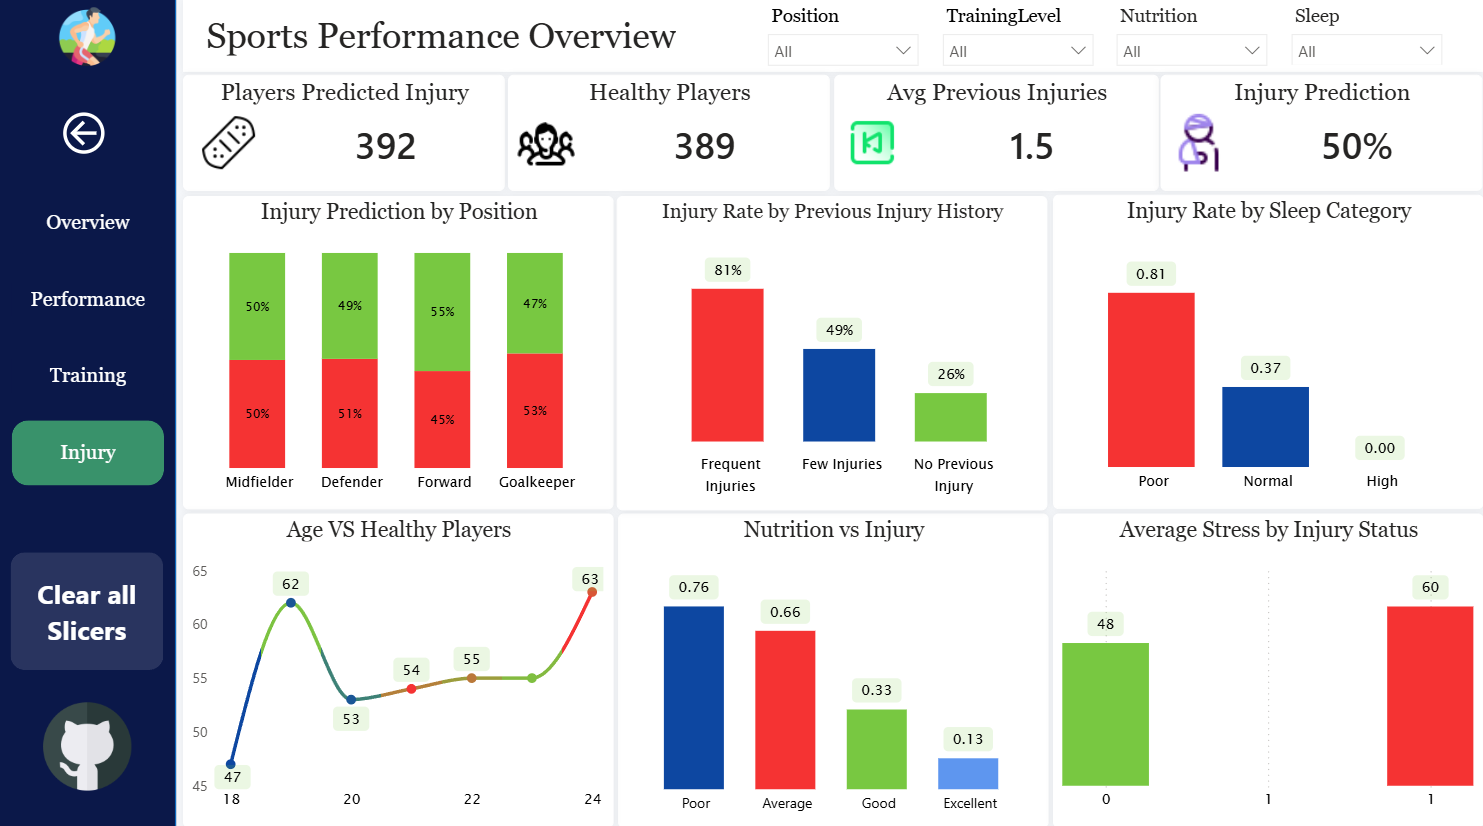

This screenshot's page, from the dashboard's own definition file:
{"tool":"powerbi","page":{"name":"Injury","canvas":[1280,720],"ordinal":3},"visuals":[{"type":"shape","box":[0,0,153.2,720.2],"z":0},{"type":"pageNavigator","box":[12.3,166.9,131.5,257],"z":1000},{"type":"shape","box":[159.3,3.6,1118.4,62],"z":2000},{"type":"slicer","title":"Training Level Distribution","fields":{"Values":["Dim_Position.Position"]},"box":[650,0,155,63.9],"z":3000},{"type":"slicer","title":"Training Level Distribution","fields":{"Values":["Dim_TrainingLevel.TrainingLevel"]},"box":[800,0,155,62.7],"z":4000},{"type":"slicer","title":"Training Level Distribution","fields":{"Values":["Dim_Nutrition.Nutrition_Category"]},"box":[950,0,155,63.9],"z":5000},{"type":"slicer","title":"Training Level Distribution","fields":{"Values":["Dim_SleepCategory.Sleep_Category"]},"box":[1100,0,155,60.3],"z":6000},{"type":"cardVisual","title":"Players Predicted Injury","fields":{"Data":["All Measures.Players Predicted Injury"]},"box":[159.3,68,277,100],"z":7000},{"type":"cardVisual","title":"Healthy Players","fields":{"Data":["All Measures.Healthy Players"]},"box":[439,67.4,277,100],"z":8000},{"type":"cardVisual","title":"Avg Previous Injuries","fields":{"Data":["All Measures.Avg Previous Injuries"]},"box":[719,67.4,279,100],"z":9000},{"type":"cardVisual","title":"Injury Prediction","fields":{"Data":["All Measures.Injury Prediction"]},"box":[1000,67.4,277,100],"z":10000},{"type":"hundredPercentStackedColumnChart","title":"Injury Prediction by Position","fields":{"Category":["Dim_Position.Position"],"Series":["Fact_PlayerPerformance.Injury_Next_Season"],"Y":["All Measures.Players"]},"box":[159.1,171.8,370.3,269.8],"z":11000},{"type":"columnChart","title":"Injury Rate by Sleep Category","fields":{"Category":["Dim_SleepCategory.Sleep_Category"],"Y":["All Measures.Injury Rate"]},"box":[907.2,171.3,370,270],"z":12000},{"type":"clusteredColumnChart","title":"Nutrition vs Injury","fields":{"Category":["Dim_Nutrition.Nutrition_Category"],"Y":["All Measures.Injury Rate"]},"box":[533,445,370,270],"z":13000},{"type":"lineChart","title":"Age VS Healthy Players","fields":{"Category":["Dim_Player.Age"],"Y":["All Measures.Healthy Players"]},"box":[159,445,370,270],"z":14000},{"type":"image","box":[14,9.3,125.6,50],"z":15000},{"type":"columnChart","title":"Injury Rate by Previous Injury History","fields":{"Category":["Dim_InjuryHistory.Injury_History"],"Y":["All Measures.Injury Rate"]},"box":[532,171.8,370,270],"z":16000},{"type":"columnChart","title":"Average Stress by Injury Status","fields":{"Category":["Fact_PlayerPerformance.Injury_Next_Season"],"Y":["Sum(Fact_PlayerPerformance.Stress_Level_Score)"]},"box":[907.4,445.4,370,270],"z":17000},{"type":"actionButton","box":[50.3,94.5,57.7,46.6],"z":18000},{"type":"actionButton","box":[0,489.6,153.4,50.3],"z":19000},{"type":"image","box":[35.6,592.6,85.9,93.3],"z":20000}]}

Visuals, with their boxes on the page's 1280x720 design canvas (x1, y1, x2, y2). These are canvas units, not pixel positions in the 1483x826 screenshot, which may show the page scaled, cropped or inside an application window:
shape: crop(0, 0, 153, 720)
pageNavigator: crop(12, 167, 144, 424)
shape: crop(159, 4, 1278, 66)
"Training Level Distribution" slicer: crop(650, 0, 805, 64)
"Training Level Distribution" slicer: crop(800, 0, 955, 63)
"Training Level Distribution" slicer: crop(950, 0, 1105, 64)
"Training Level Distribution" slicer: crop(1100, 0, 1255, 60)
"Players Predicted Injury" cardVisual: crop(159, 68, 436, 168)
"Healthy Players" cardVisual: crop(439, 67, 716, 167)
"Avg Previous Injuries" cardVisual: crop(719, 67, 998, 167)
"Injury Prediction" cardVisual: crop(1000, 67, 1277, 167)
"Injury Prediction by Position" hundredPercentStackedColumnChart: crop(159, 172, 529, 442)
"Injury Rate by Sleep Category" columnChart: crop(907, 171, 1277, 441)
"Nutrition vs Injury" clusteredColumnChart: crop(533, 445, 903, 715)
"Age VS Healthy Players" lineChart: crop(159, 445, 529, 715)
image: crop(14, 9, 140, 59)
"Injury Rate by Previous Injury History" columnChart: crop(532, 172, 902, 442)
"Average Stress by Injury Status" columnChart: crop(907, 445, 1277, 715)
actionButton: crop(50, 94, 108, 141)
actionButton: crop(0, 490, 153, 540)
image: crop(36, 593, 122, 686)
